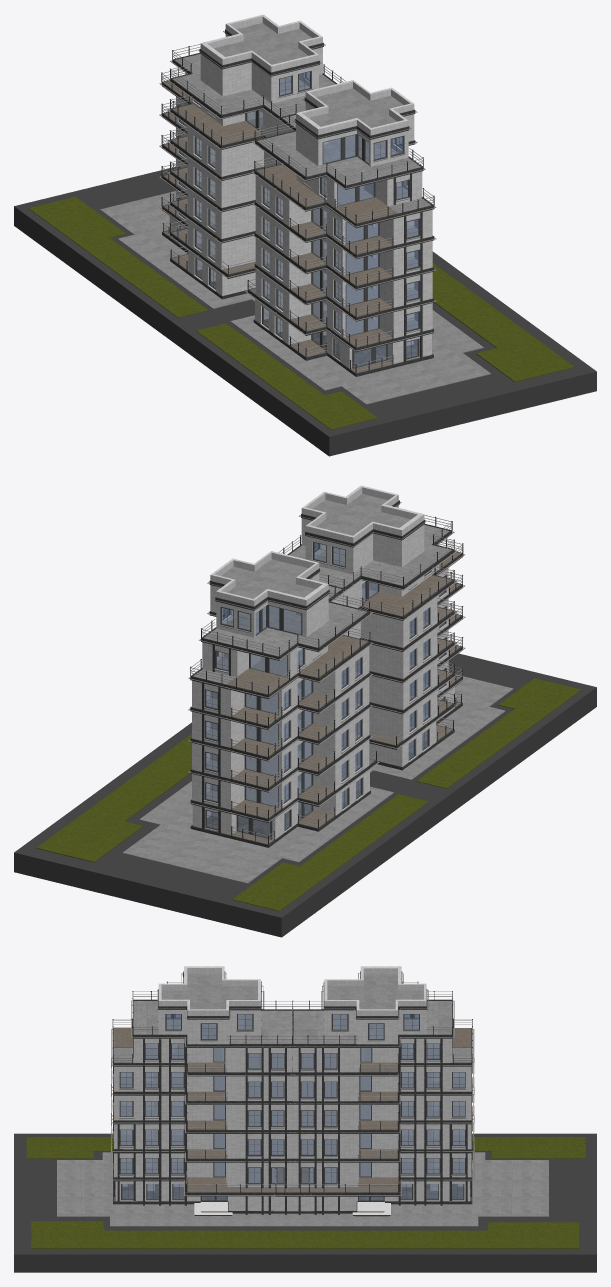
3 renders of one model, top to bottom at view 1: azimuth 30°, elevation 25°; view 2: azimuth 150°, elevation 25°; view 3: azimuth 270°, elevation 25°, orthographic. The views are drawn at different scales.
Visible parts, largest first — view 1: Box326, Line001, Line223, Line219, Object_Material #12_0, Line012, Line015, Line013, Line014, Box001, Line010, Line002 (+16 smaller); view 2: Box326, Line001, Line223, Line219, Object_Material #12_0, Box001, Line012, Line015, Line013, Rectangle001, Line014, Line011 (+15 smaller); view 3: Line001, Box326, Line223, Line219, Box001, Line011, Object_Material #12_0, Line012, Line015, Box230, Line014, Rectangle001 (+25 smaller).
Boxes of the visible parts, <box> form: Box326: <box>14,167,596,456</box>; Line001: <box>169,14,432,368</box>; Line223: <box>28,196,574,429</box>; Line219: <box>100,191,490,404</box>; Object_Material #12_0: <box>163,81,397,373</box>; Line012: <box>173,54,420,185</box>; Line015: <box>159,31,436,371</box>; Line013: <box>296,80,414,166</box>; Line014: <box>214,23,403,127</box>; Box001: <box>180,72,418,326</box>; Line010: <box>255,238,432,307</box>; Line002: <box>255,269,432,338</box>; Box326: <box>14,653,596,937</box>; Line001: <box>192,551,454,839</box>; Line223: <box>36,678,581,911</box>; Line219: <box>122,675,513,883</box>; Object_Material #12_0: <box>227,552,461,844</box>; Box001: <box>206,576,444,837</box>; Line012: <box>204,525,451,656</box>; Line015: <box>188,569,465,842</box>; Line013: <box>301,485,424,574</box>; Rectangle001: <box>204,575,445,839</box>; Line014: <box>221,494,410,598</box>; Line011: <box>193,588,440,806</box>; Line001: <box>114,966,471,1211</box>; Box326: <box>14,1133,596,1272</box>; Line223: <box>26,1137,585,1248</box>; Line219: <box>57,1152,548,1226</box>; Box001: <box>121,1014,464,1200</box>; Line011: <box>114,1029,471,1182</box>; Object_Material #12_0: <box>114,1028,471,1192</box>; Line012: <box>133,1001,451,1043</box>; Line015: <box>111,973,474,1195</box>; Box230: <box>113,1038,471,1214</box>; Line014: <box>161,974,423,1009</box>; Rectangle001: <box>119,1014,465,1201</box>.
Size of the model in its own units: 32.8 by 28.11 by 66.85.
Materials: 18 (12 with a texture image).
